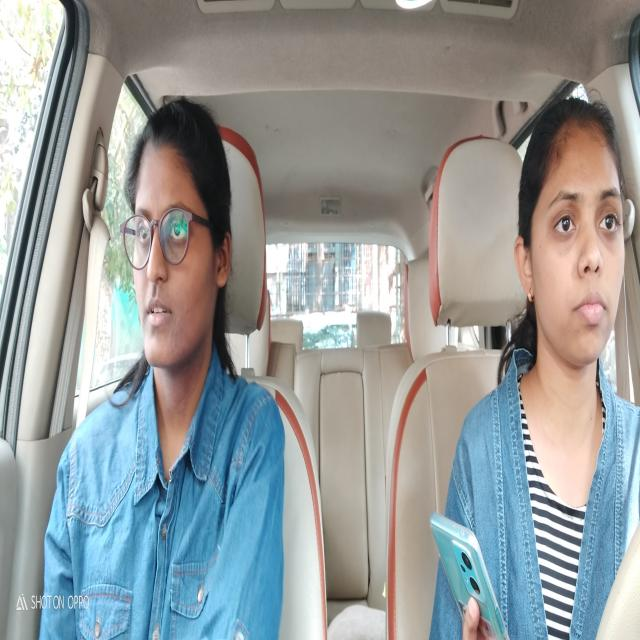mobile: (422, 478, 516, 640)
person: (510, 71, 630, 419), (118, 80, 236, 389)
